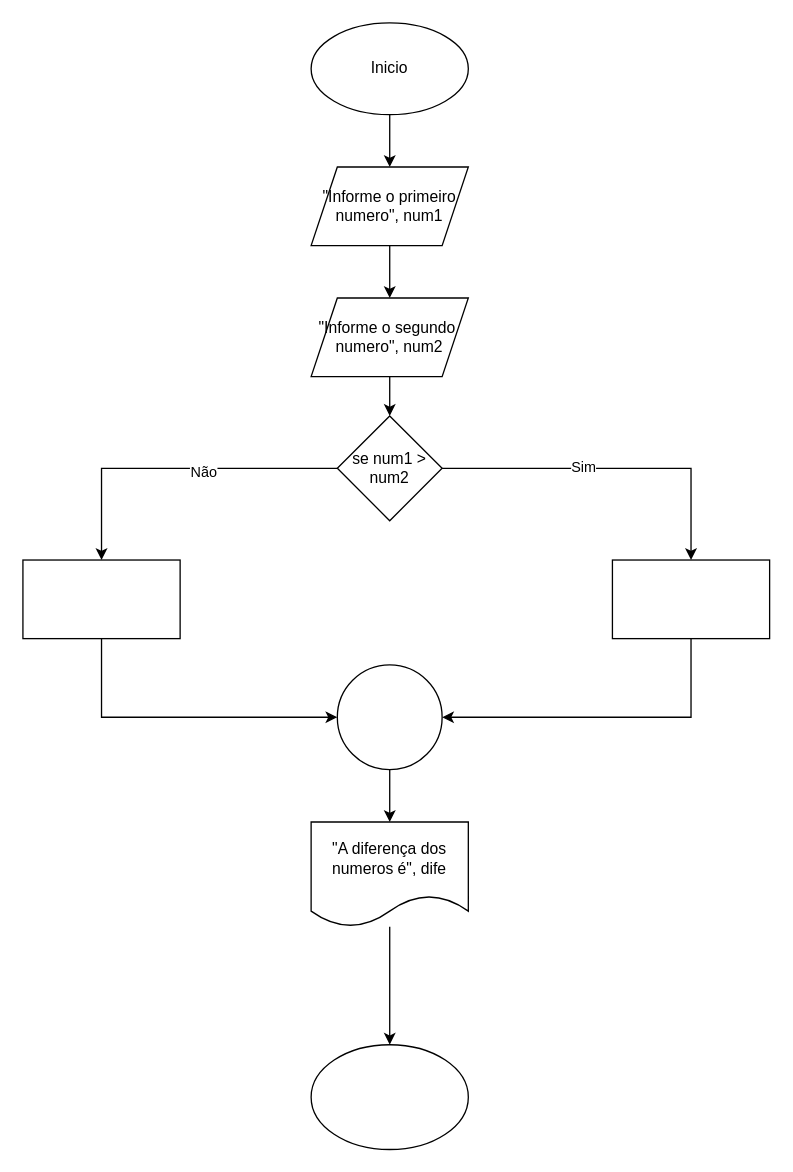
Some shapes in this 793 by 1172 pixel diagram are drawn without their labels. Here are the shapes that lost their labels. From the top down, the centre of each, then its label:
At pixel 101 599: "dife:= num2 - num1".
At pixel 690 599: "dife:= num1 - num2".
At pixel 389 1096: "Fim".
